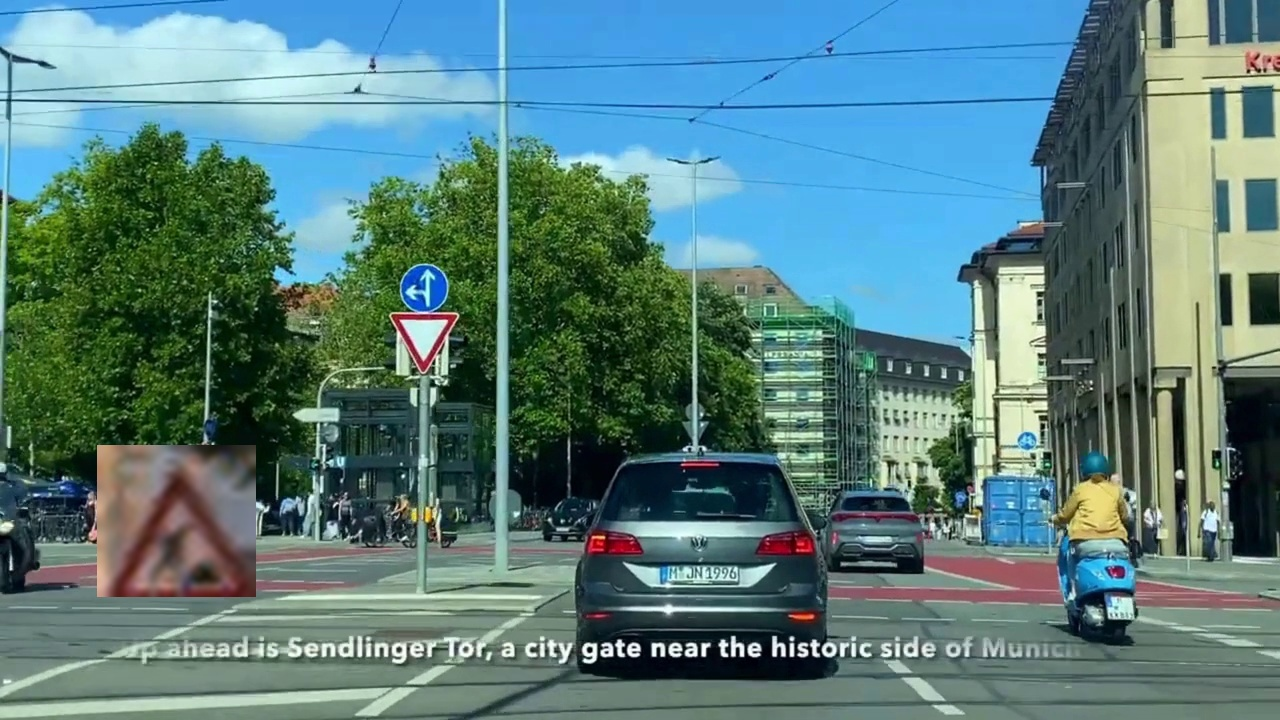Road work: (97, 445, 256, 597)
